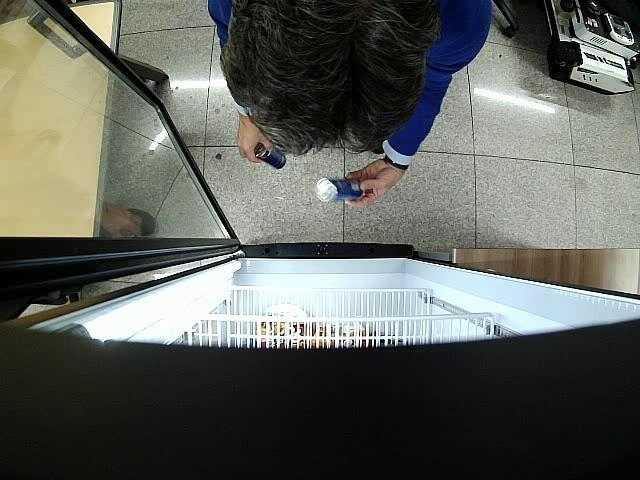16_hot6: (315, 179, 365, 202), (254, 144, 286, 169)
